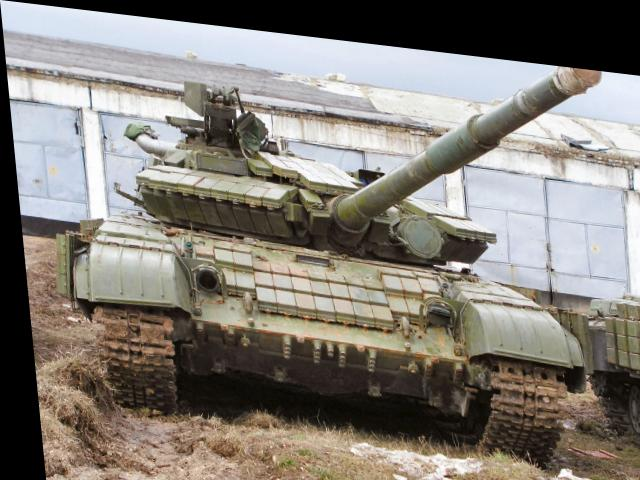tank: (59, 60, 569, 446)
